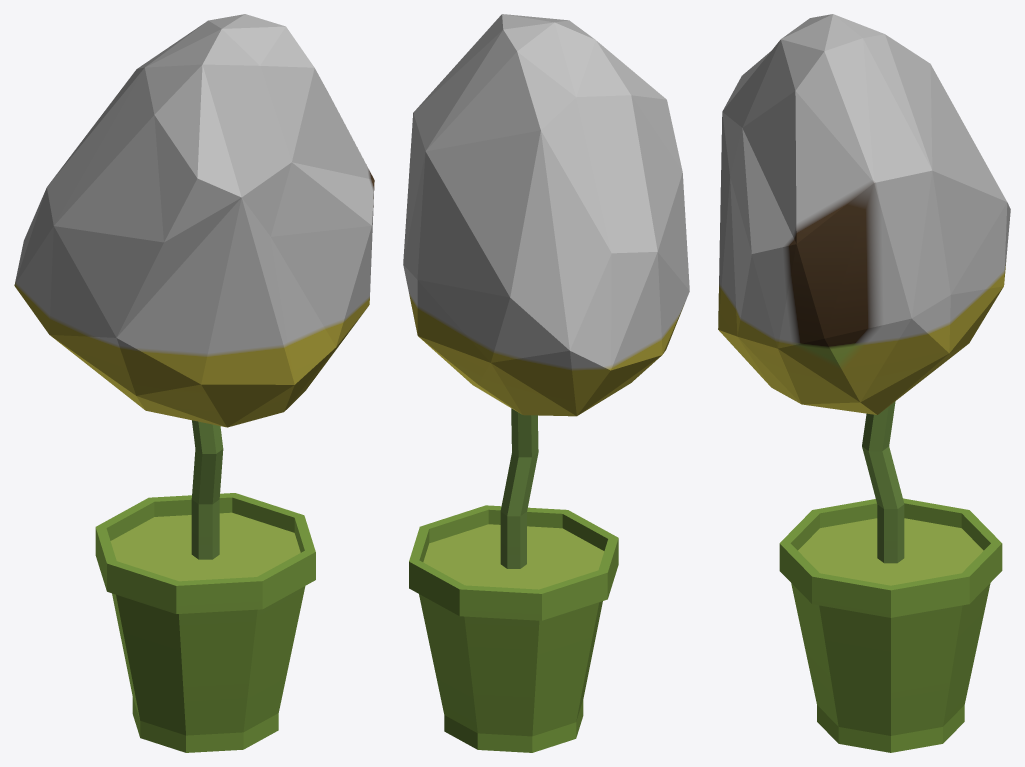
The model's file is Pot_06.fbx.
3 renders of one model, left to right at view 1: azimuth 30°, elevation 25°; view 2: azimuth 150°, elevation 25°; view 3: azimuth 270°, elevation 25°, orthographic. The views are drawn at different scales.
Visible parts, largest first — view 1: Pot_06; view 2: Pot_06; view 3: Pot_06.
Boxes of the visible parts, left/top/right/bottom form: Pot_06: left=14, top=14, right=374, bottom=752; Pot_06: left=403, top=14, right=689, bottom=752; Pot_06: left=718, top=14, right=1010, bottom=752.
Bounding box in the file's own units: 0.557 × 1.35 × 0.5098.
